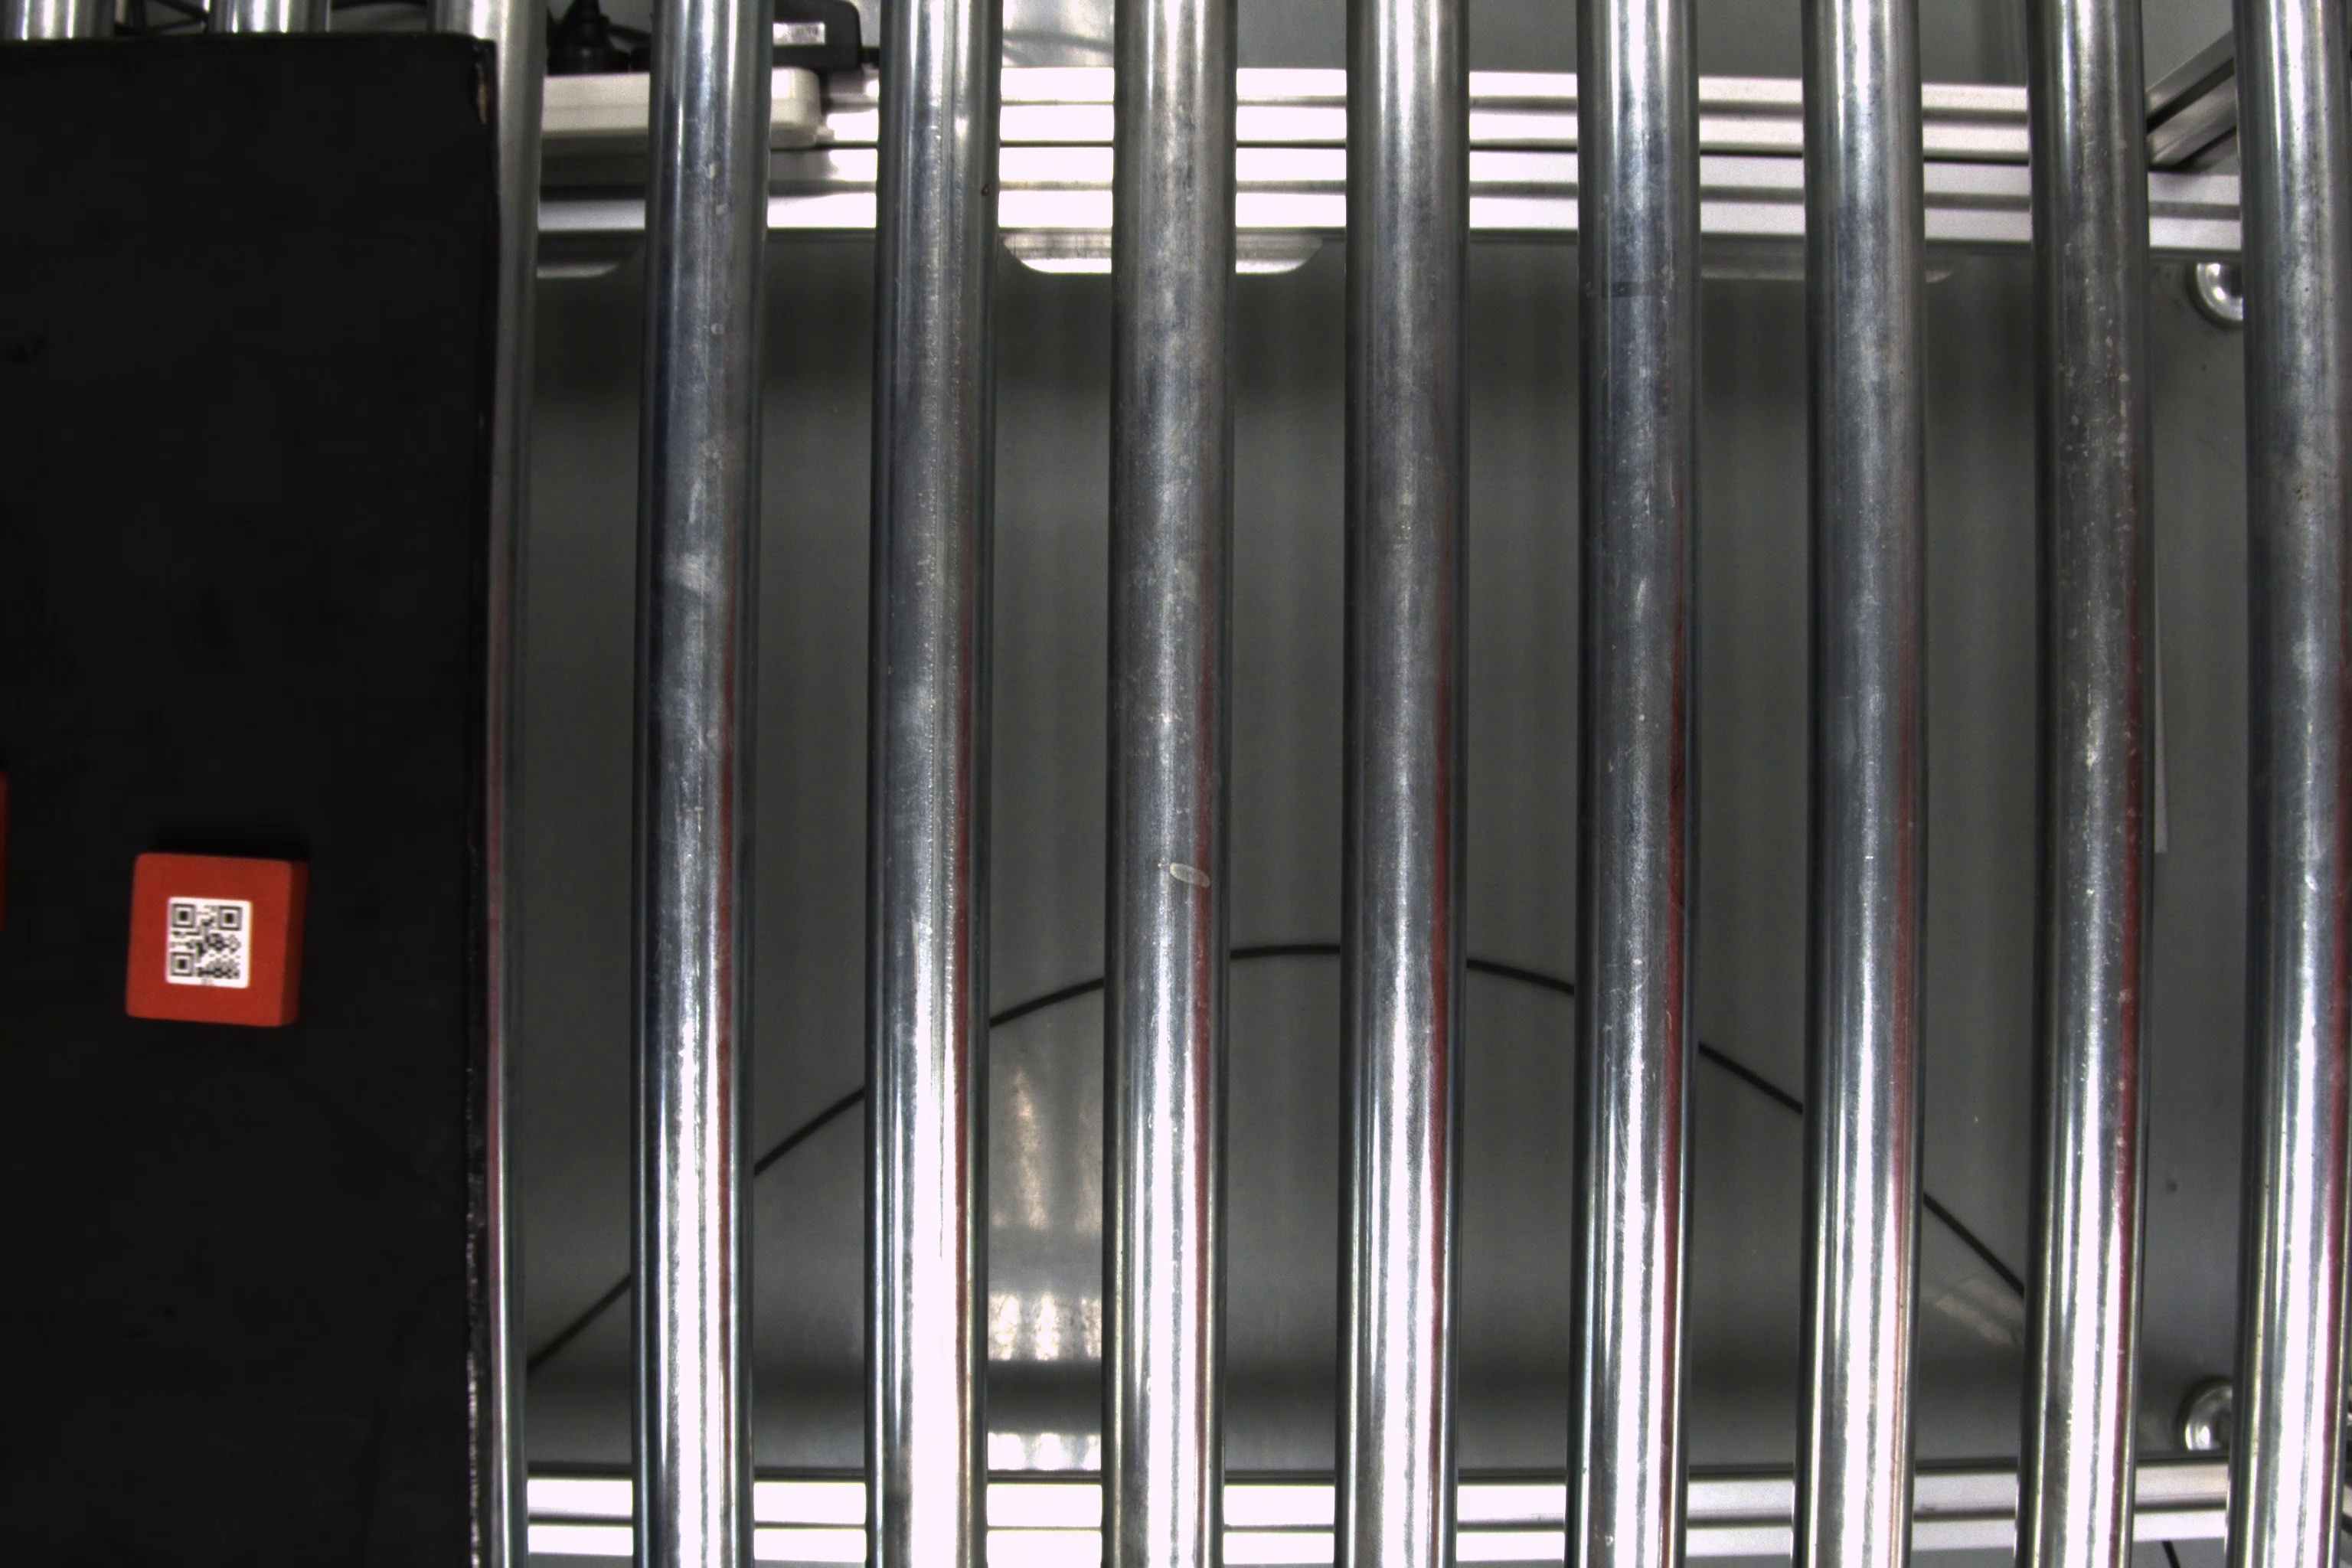wood: (122, 849, 311, 1036)
